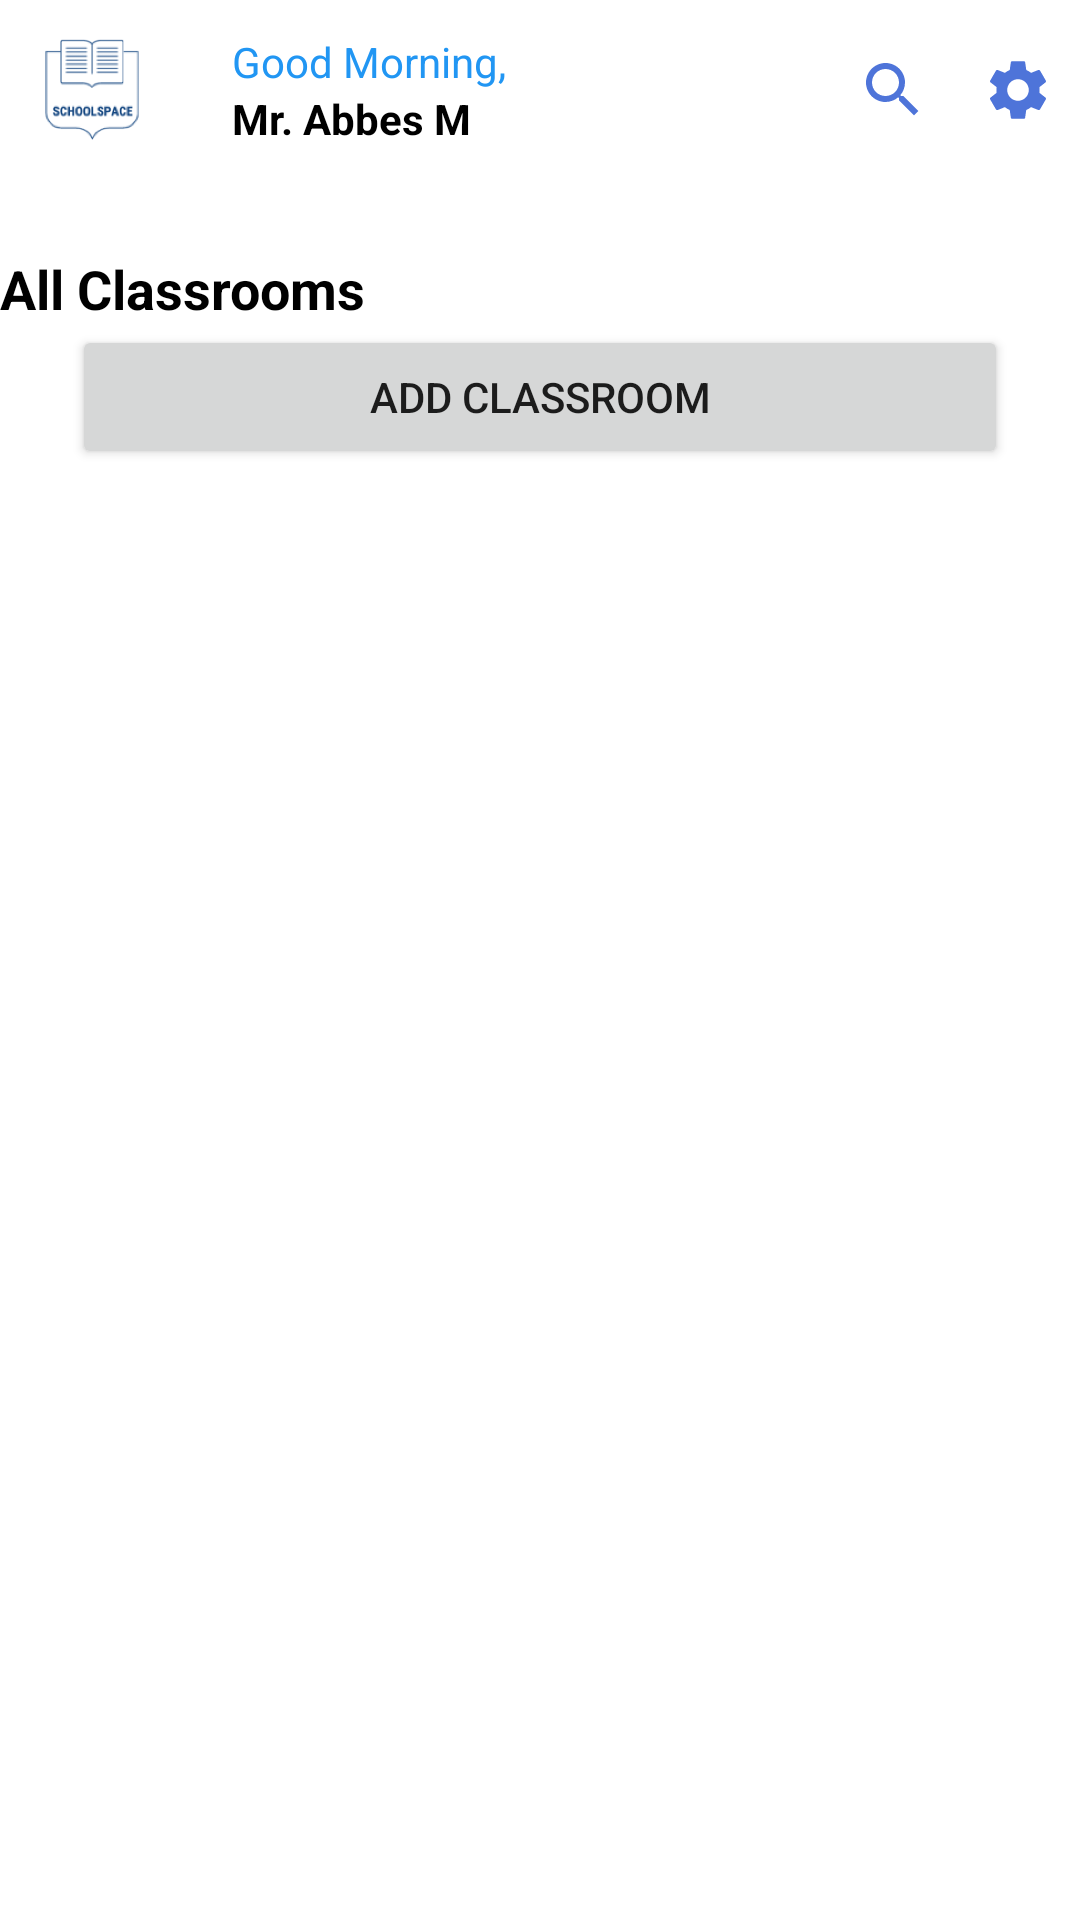

Point at icon controls on the screen. Image size 1080*1920, points as [x,y].
search: [892,89]
settings: [1018,90]
